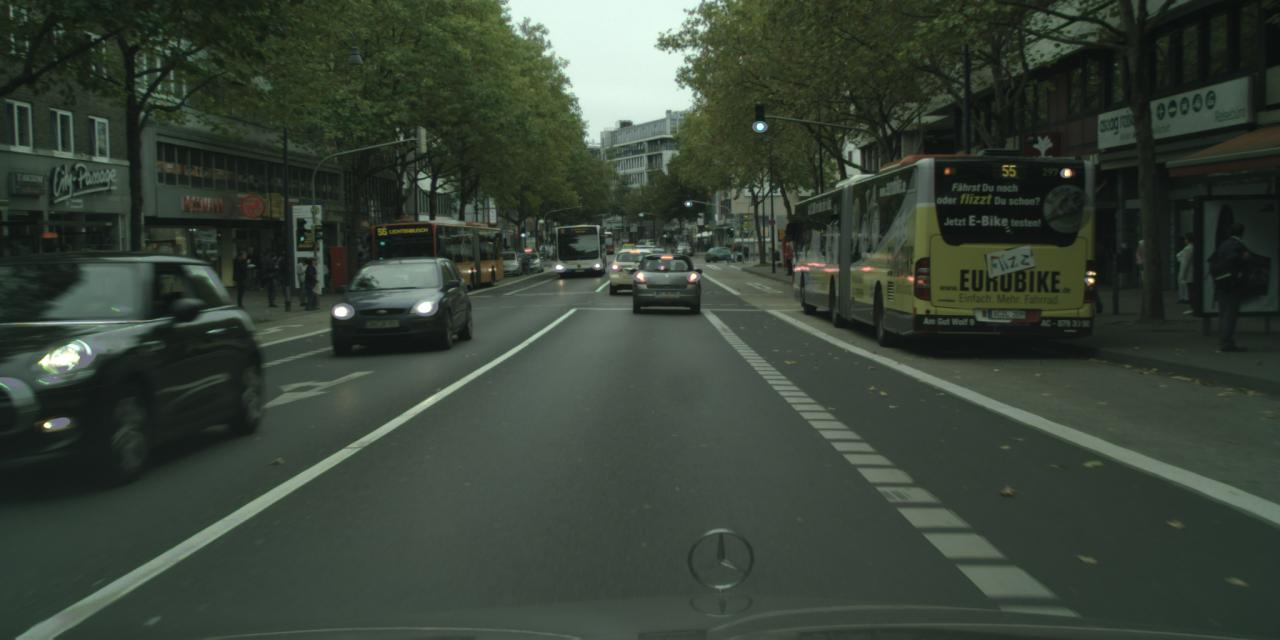ped: (1207, 221, 1259, 351), (1063, 216, 1103, 314), (1174, 232, 1206, 314), (1134, 228, 1166, 306), (1171, 234, 1199, 302), (230, 251, 253, 308), (262, 253, 284, 306), (304, 258, 324, 308), (300, 258, 320, 308), (1086, 236, 1104, 282), (294, 260, 312, 306), (274, 251, 292, 295), (242, 246, 259, 290), (252, 251, 267, 289), (261, 248, 275, 283), (782, 242, 795, 275), (730, 240, 738, 260), (742, 243, 749, 261), (501, 244, 506, 260), (666, 235, 672, 246), (696, 242, 700, 252), (615, 236, 618, 246), (700, 242, 703, 252)
